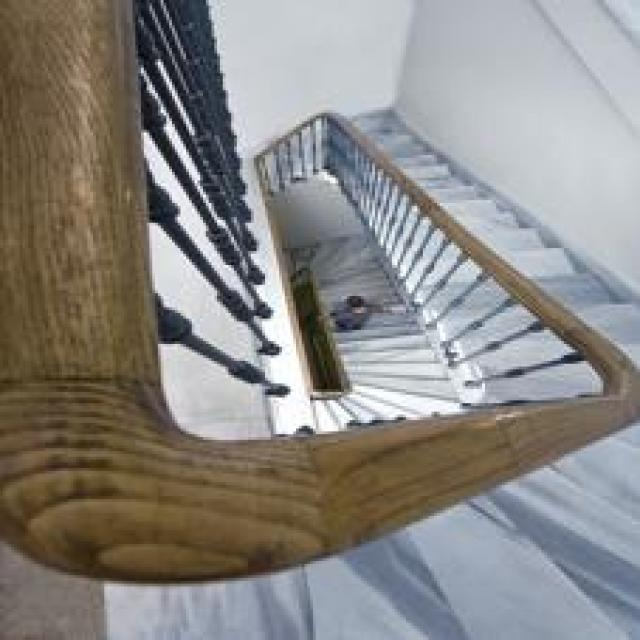stair: (395, 333, 629, 603)
